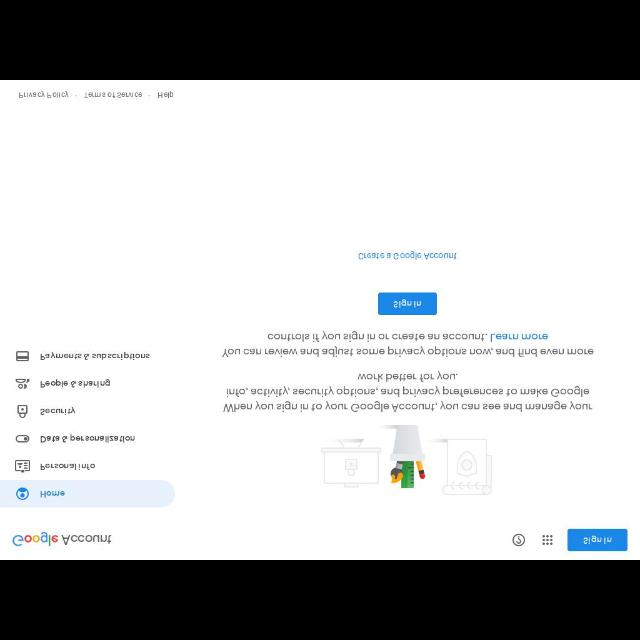icon: (13, 460, 31, 472), (17, 486, 29, 502), (15, 350, 30, 362), (540, 534, 554, 546), (512, 534, 524, 546), (16, 377, 29, 388), (18, 407, 28, 418), (16, 434, 29, 442)
image: (12, 531, 60, 549)
text: (224, 371, 594, 413), (223, 332, 595, 358), (357, 250, 458, 260), (39, 434, 134, 444), (40, 352, 150, 360), (62, 532, 112, 546), (40, 378, 110, 388), (40, 460, 96, 470), (38, 405, 76, 415), (584, 535, 612, 545), (392, 298, 420, 308), (40, 490, 66, 498)
textbutton: (568, 528, 628, 550), (379, 293, 437, 315)
